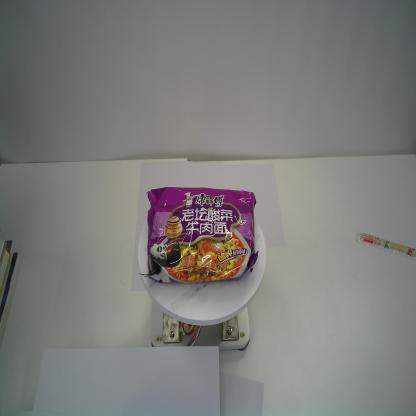Instant Noodles: (138, 186, 259, 284)
